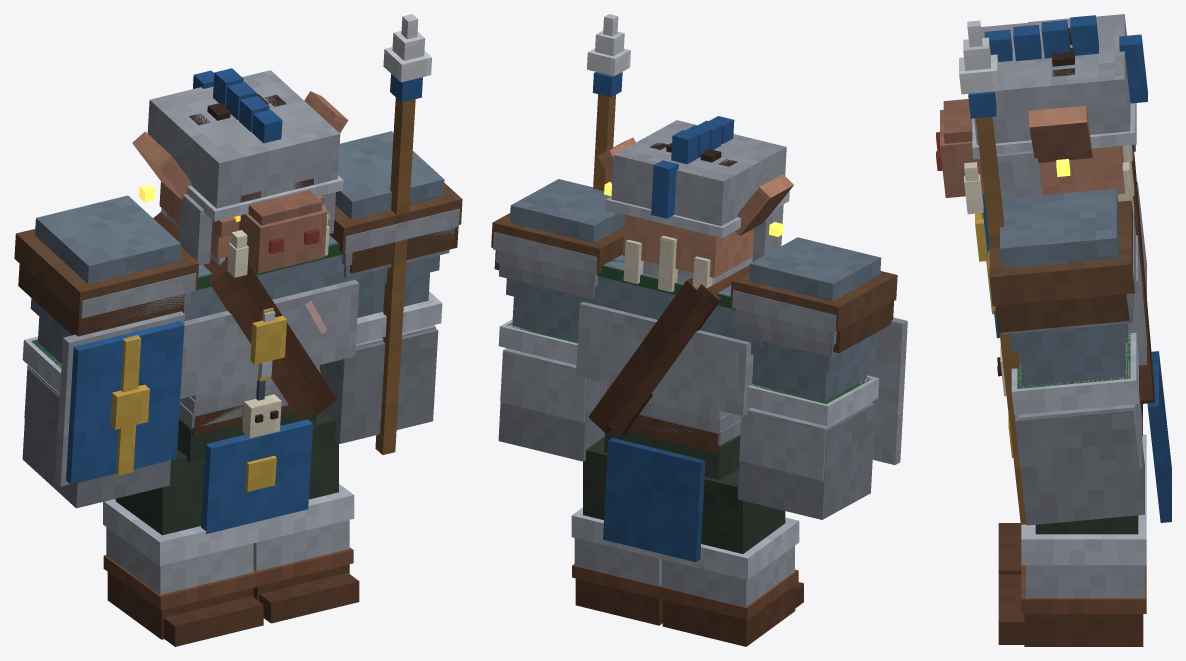
The model's file is orc_garde_v2.glb.
3 renders of one model, left to right at view 1: azimuth 30°, elevation 25°; view 2: azimuth 150°, elevation 25°; view 3: azimuth 270°, elevation 25°, orthographic. The views are drawn at different scales.
Parts seen in each view (by area): view 1: ArmR, Torso, Head, ArmL, LegR, LegL, HandL; view 2: Torso, ArmR, ArmL, Head, LegR, LegL, HandL; view 3: ArmL, Head, LegL, HandL, Torso, LegR, ArmR.
Part boxes in pixels (left/top/right/bottom): ArmR: left=14, top=195, right=198, bottom=508; Torso: left=153, top=208, right=366, bottom=533; Head: left=132, top=68, right=348, bottom=277; ArmL: left=319, top=131, right=462, bottom=443; LegR: left=103, top=450, right=263, bottom=646; LegL: left=253, top=411, right=359, bottom=623; HandL: left=375, top=14, right=431, bottom=454; Torso: left=573, top=235, right=761, bottom=562; ArmR: left=730, top=237, right=907, bottom=519; ArmL: left=491, top=179, right=624, bottom=461; Head: left=598, top=116, right=793, bottom=284; LegR: left=658, top=469, right=803, bottom=646; LegL: left=571, top=436, right=662, bottom=625; HandL: left=587, top=14, right=630, bottom=191; ArmL: left=989, top=188, right=1144, bottom=525; Head: left=936, top=14, right=1147, bottom=214; LegL: left=998, top=487, right=1146, bottom=646; HandL: left=959, top=20, right=1026, bottom=524; Torso: left=988, top=145, right=1171, bottom=522; LegR: left=998, top=434, right=1146, bottom=574; ArmR: left=975, top=144, right=1135, bottom=338.
Bounding box in the file's own units: 1.48 × 2.1 × 0.6967.
Materials: 45 (45 with a texture image).
